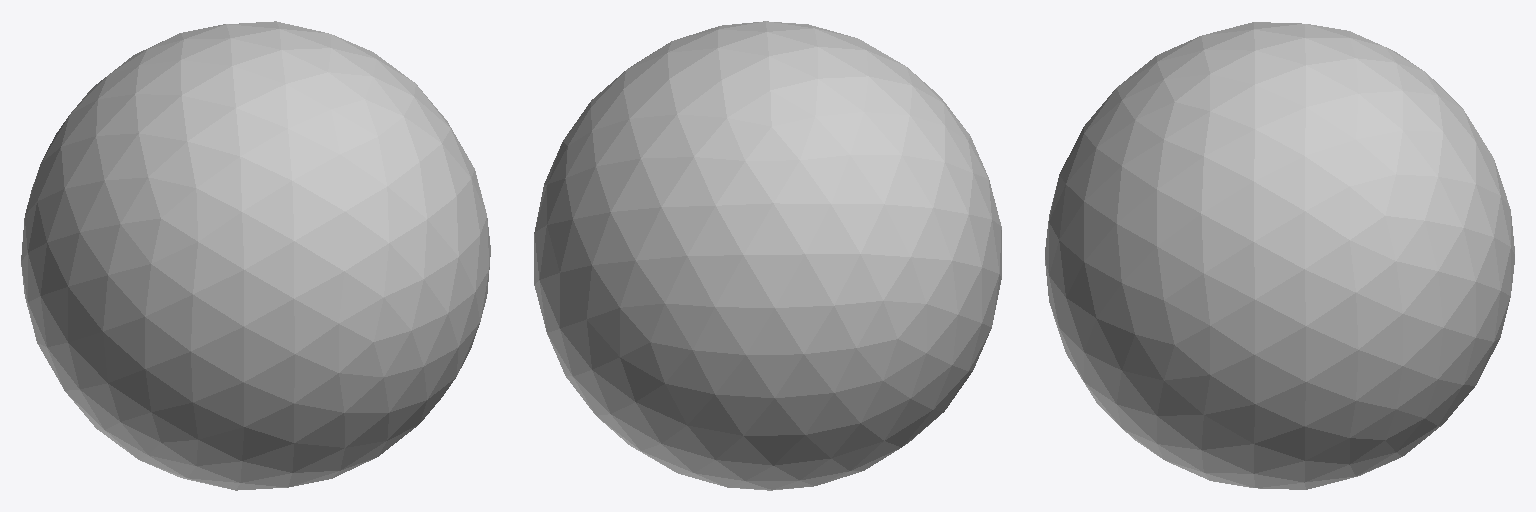
The model's file is ball500.obj.
3 views of the same model, side by side, from view 1: azimuth 30°, elevation 25°; view 2: azimuth 150°, elevation 25°; view 3: azimuth 270°, elevation 25° (orthographic).
Visible parts, largest first — view 1: pPlatonic1; view 2: pPlatonic1; view 3: pPlatonic1.
Boxes of the visible parts, <box> form: pPlatonic1: <box>21,21,490,490</box>; pPlatonic1: <box>534,21,1001,490</box>; pPlatonic1: <box>1045,22,1514,489</box>.
Size of the model in its own units: 1.99 by 1.98 by 2.